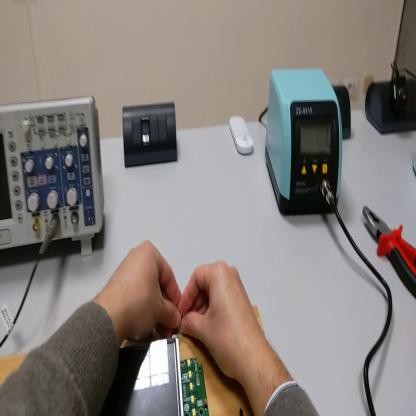hand: (180, 260, 263, 381), (101, 240, 182, 344)
low voltage board: (108, 338, 210, 413)
oscilloscope: (2, 99, 106, 257)
pliers: (364, 206, 416, 299)
socket: (366, 78, 414, 136), (334, 85, 352, 141)
welder station: (268, 68, 344, 214)
working area: (1, 304, 268, 415)
